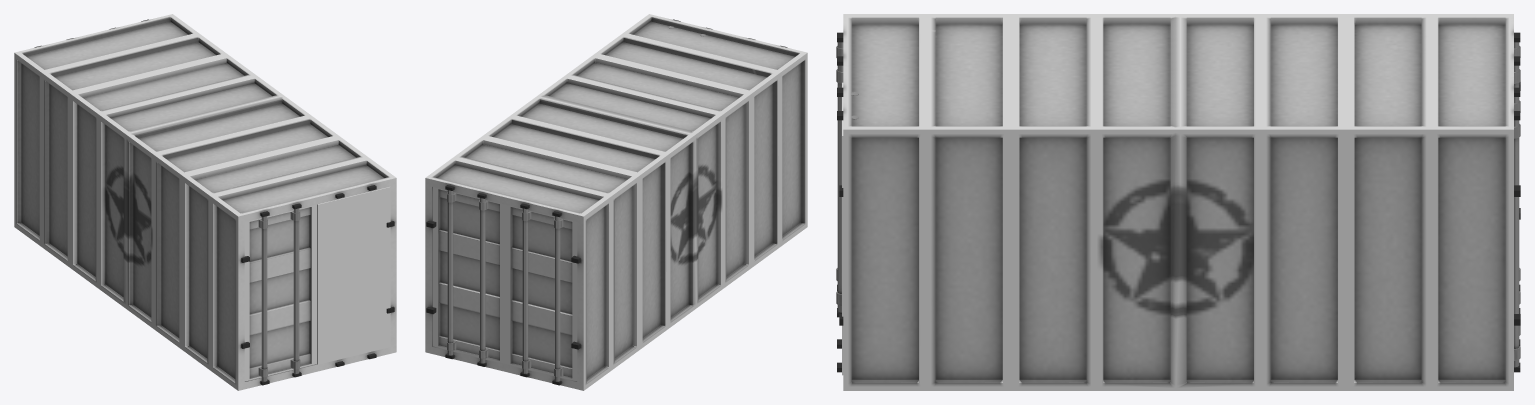
Rendered from Container_White.fbx.
3 views of the same model, side by side, from view 1: azimuth 30°, elevation 25°; view 2: azimuth 150°, elevation 25°; view 3: azimuth 270°, elevation 25° (orthographic). The views are drawn at different scales.
Parts seen in each view (by area): view 1: Container_Body_White, Container_Door_White_1, Container_Door_White_2, Container_Pole_2, Container_Pole_1; view 2: Container_Body_White, Container_Door_White_3, Container_Door_White_4, Container_Pole_2 (×2), Container_Pole_1 (×2); view 3: Container_Body_White, Container_Pole_1, Container_Pole_2.
Boxes of the visible parts, left/top/right/bottom form: Container_Body_White: left=14, top=14, right=396, bottom=390; Container_Door_White_1: left=317, top=187, right=390, bottom=364; Container_Door_White_2: left=244, top=204, right=316, bottom=381; Container_Pole_2: left=290, top=208, right=300, bottom=373; Container_Pole_1: left=258, top=216, right=267, bottom=381; Container_Body_White: left=425, top=14, right=807, bottom=390; Container_Door_White_3: left=432, top=187, right=505, bottom=363; Container_Door_White_4: left=505, top=204, right=577, bottom=381; Container_Pole_2 (×2): left=479, top=198, right=531, bottom=373; Container_Pole_1 (×2): left=447, top=190, right=563, bottom=381; Container_Body_White: left=837, top=14, right=1520, bottom=390; Container_Pole_1: left=1514, top=120, right=1520, bottom=367; Container_Pole_2: left=836, top=65, right=843, bottom=312.
Bounding box in the file's own units: 4.44 × 4.67 × 11.09.
